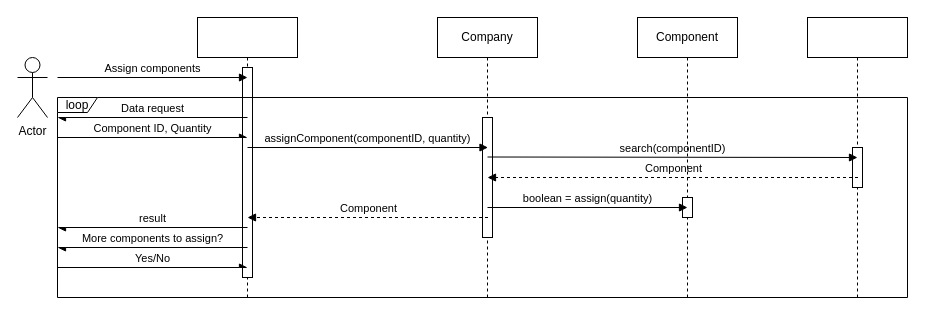
Some shapes in this 925 by 316 pixel diagram are drawn without their labels. The centre of each missing label's shape, as x and y in pixels:
ComponentList: (x=857, y=82)
User Interface: (x=247, y=42)
